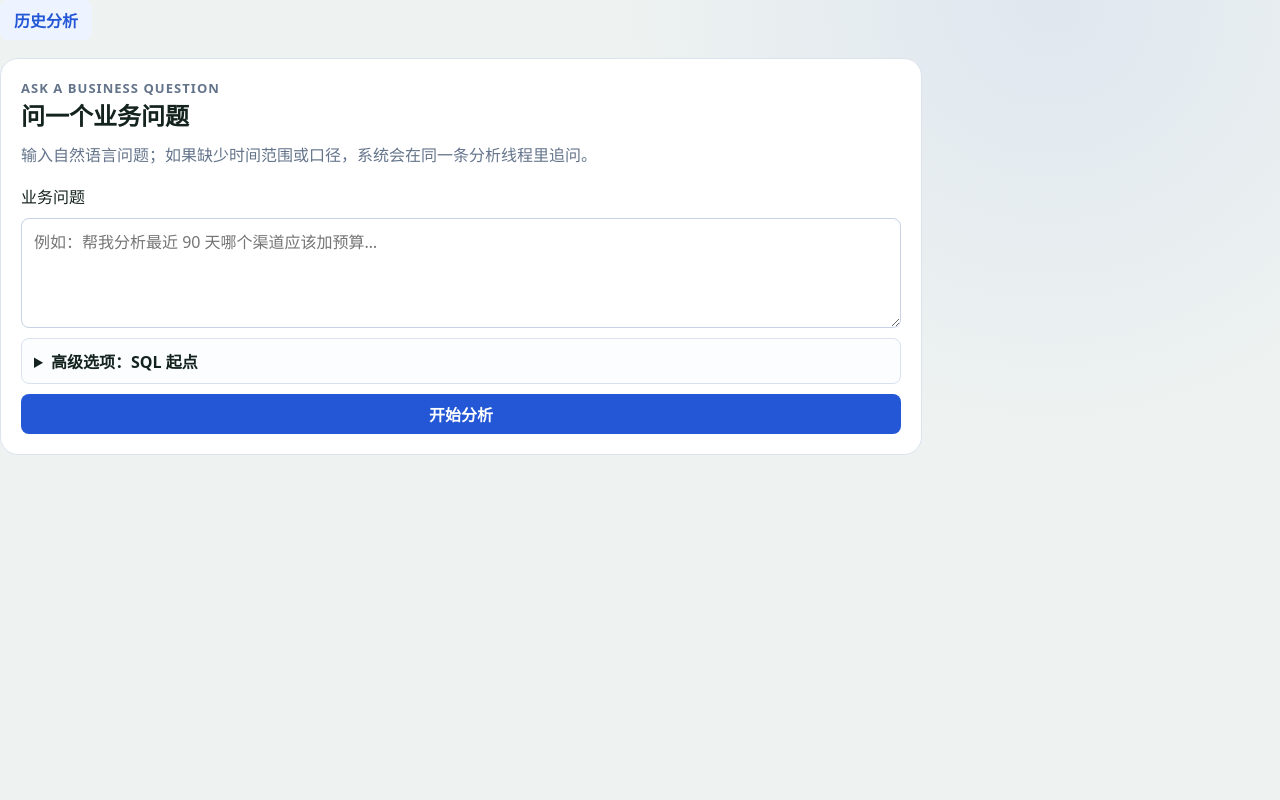
it: workspace product components › replaces raw SQL reviewer wall in failed history summaries
This screenshot has width=1280, height=800.
Click the button "历史分析".
click(46, 20)  # box [0,0,92,40]
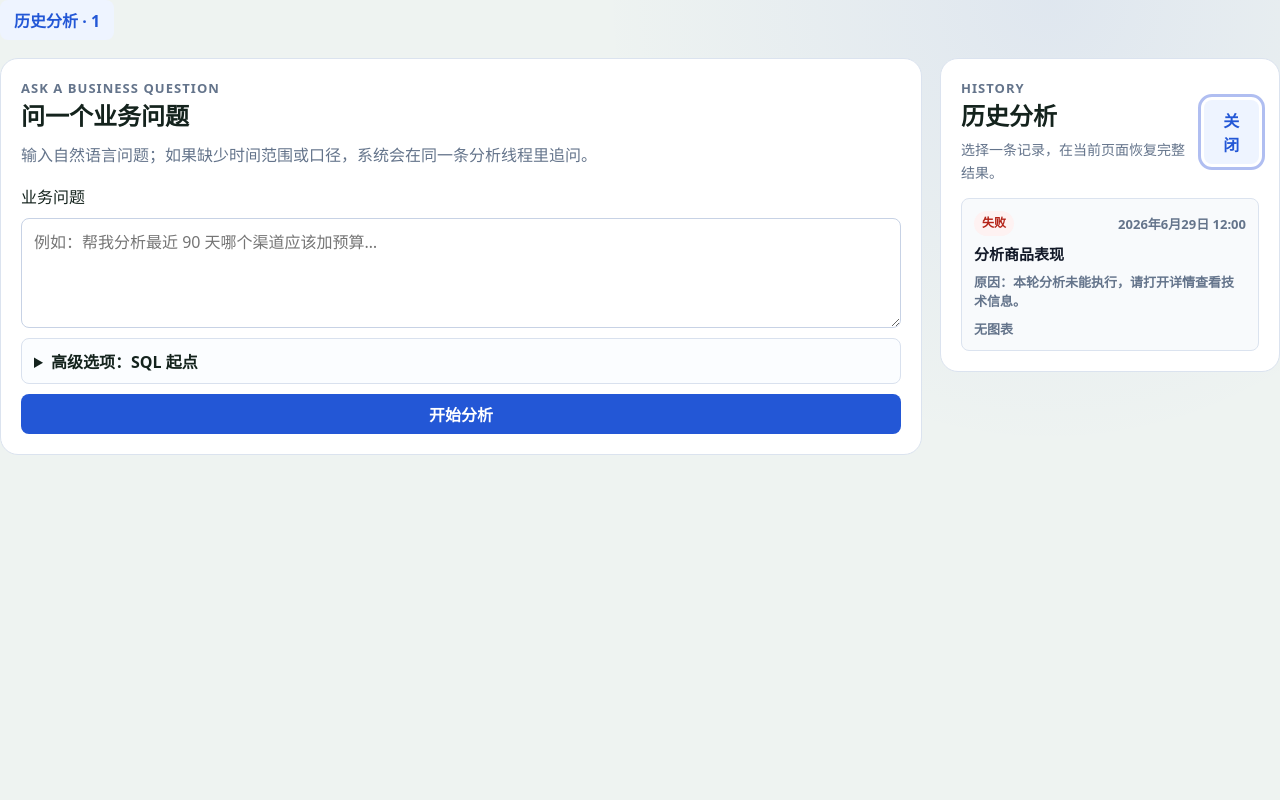
Result: the text "分析商品表现" is shown at [974,244,1064,264]
Result: the text "原因：本轮分析未能执行，请打开详情查看技术信息。" is shown at [974,273,1246,311]
